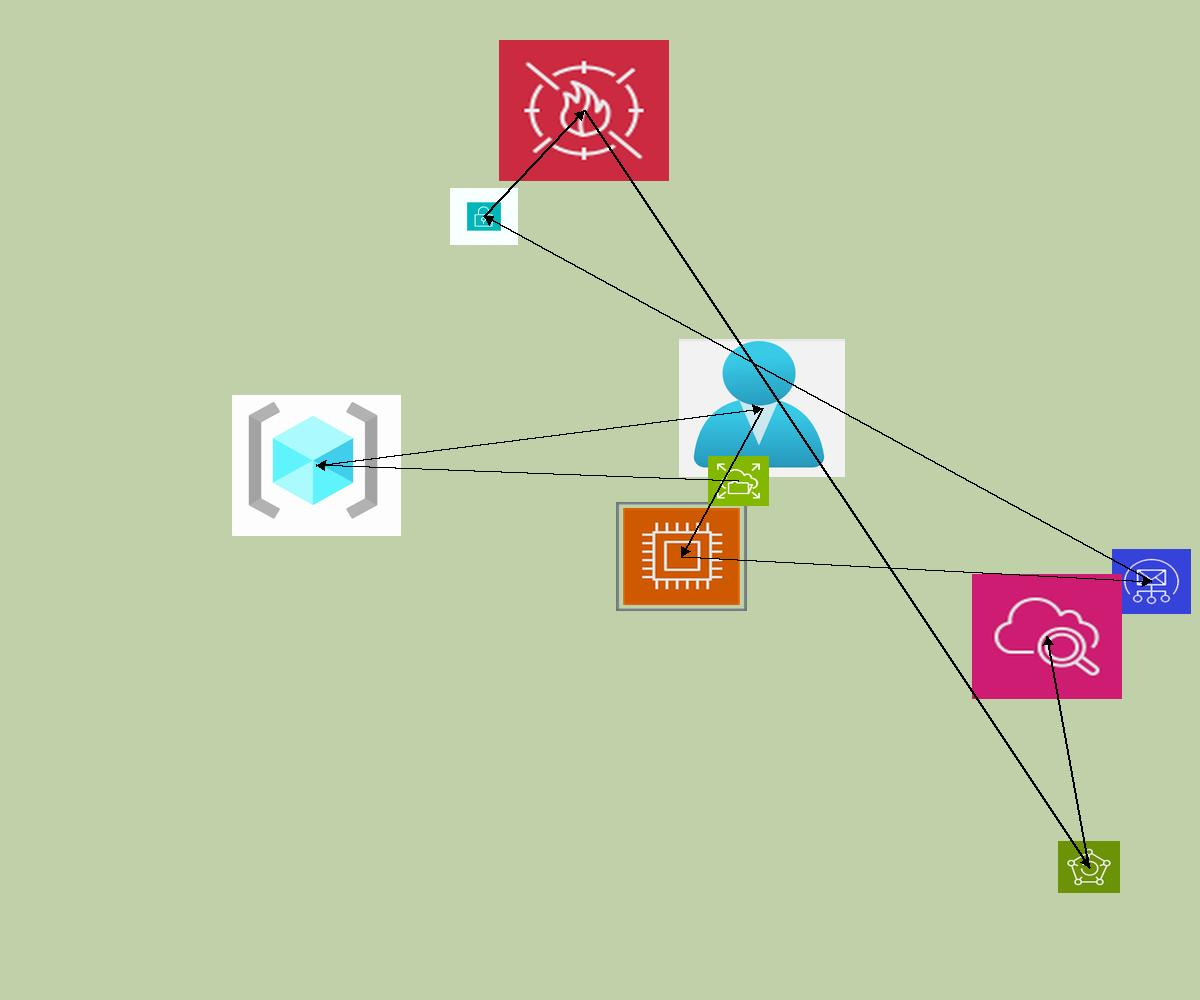AWS-Backup: (1058, 841, 1120, 893)
AWS-Category_Compute: (616, 502, 747, 611)
AWS-CloudWatch: (972, 574, 1122, 699)
AWS-EFS: (708, 456, 769, 506)
AWS-Private-subnet: (450, 188, 518, 245)
AWS-Simple-Email-Service: (1112, 549, 1191, 614)
AWS-WAF: (499, 40, 669, 181)
Azure_resource_group: (232, 395, 401, 536)
Azure_users: (679, 339, 845, 477)
